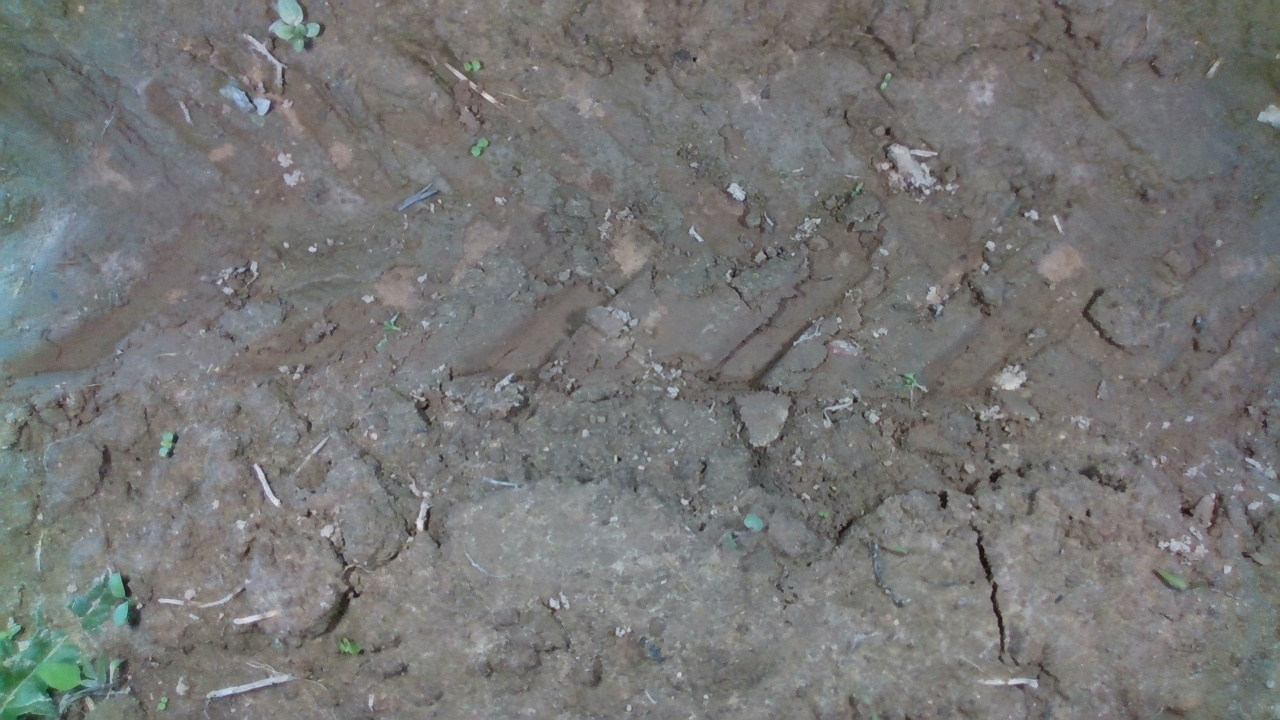weed: (156, 429, 174, 458), (470, 135, 490, 159), (879, 70, 893, 92), (462, 58, 482, 72)
